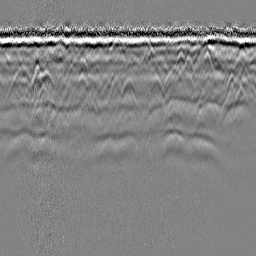cavity: (120, 75, 137, 102)
